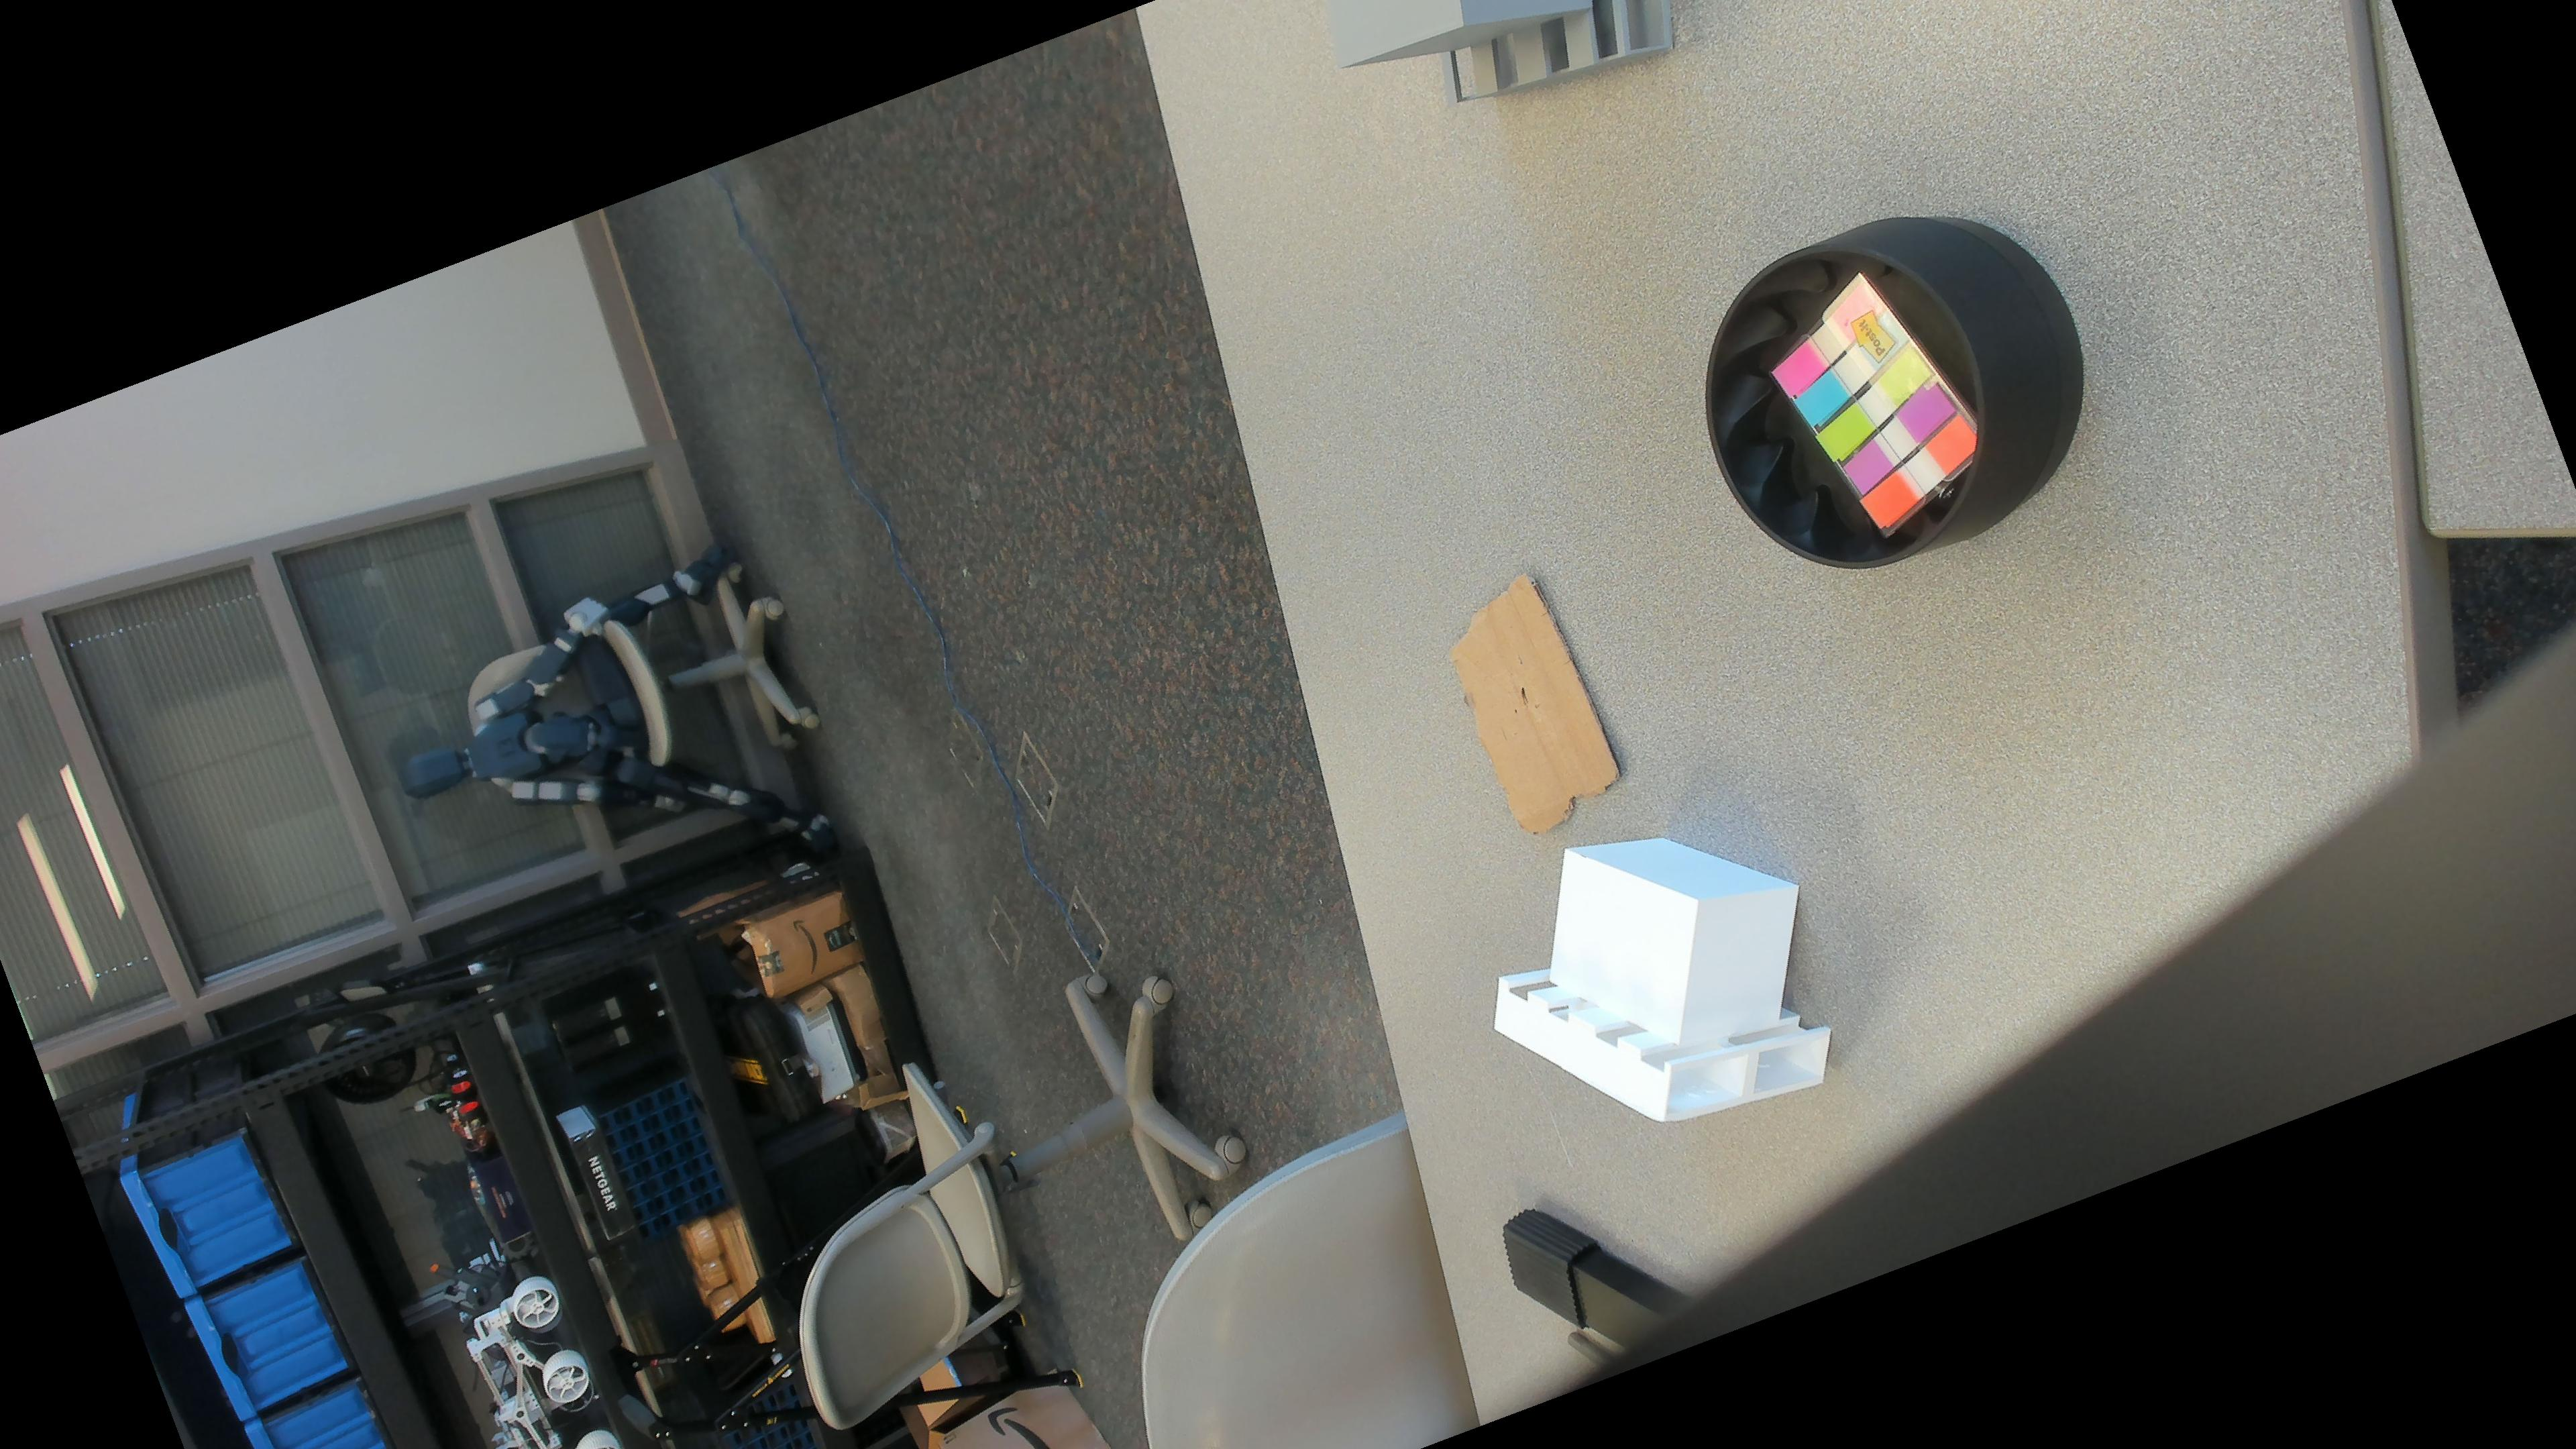grey pallet: (1323, 0, 1681, 115)
white pallet: (1488, 832, 1840, 1127)
